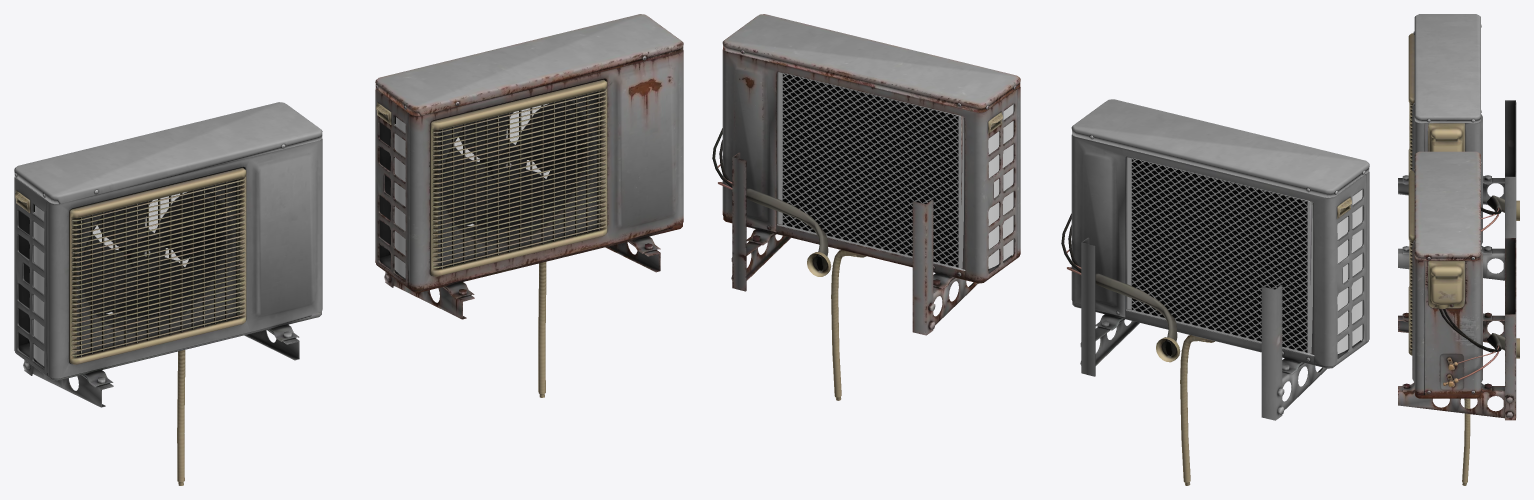
The model's file is exterior_aircon_unit.glb.
3 views of the same model, side by side, from view 1: azimuth 30°, elevation 25°; view 2: azimuth 150°, elevation 25°; view 3: azimuth 270°, elevation 25° (orthographic). The views are drawn at different scales.
Visible parts, largest first — view 1: exterior_aircon_unit_rusted, exterior_aircon_unit; view 2: exterior_aircon_unit, exterior_aircon_unit_rusted; view 3: exterior_aircon_unit_rusted, exterior_aircon_unit.
Boxes of the visible parts, x1=… form: exterior_aircon_unit_rusted: x1=375, y1=14, x2=683, y2=397; exterior_aircon_unit: x1=14, y1=102, x2=322, y2=485; exterior_aircon_unit: x1=1061, y1=99, x2=1369, y2=485; exterior_aircon_unit_rusted: x1=712, y1=14, x2=1020, y2=400; exterior_aircon_unit_rusted: x1=1398, y1=151, x2=1519, y2=485; exterior_aircon_unit: x1=1398, y1=14, x2=1519, y2=280.
Bounding box in the file's own units: 1.8 × 0.9279 × 0.3742.
Materials: 4 (4 with a texture image).
